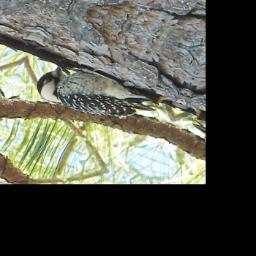Woodpecker: (31, 55, 166, 137)
